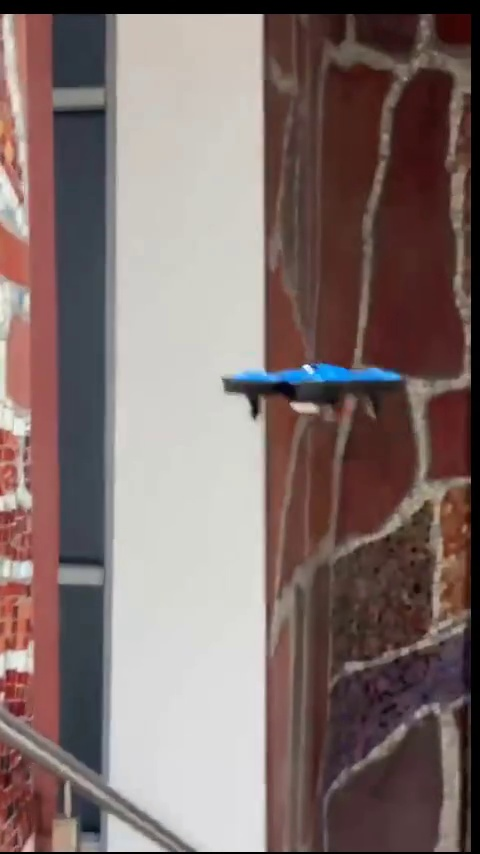drone: (224, 357, 408, 425)
